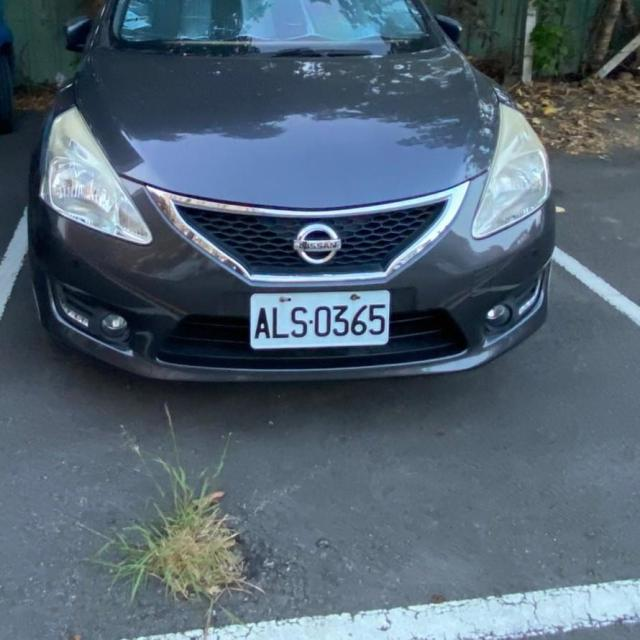W: (250, 288, 392, 352)
